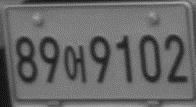0: (138, 34, 161, 81)
1: (115, 34, 133, 83)
2: (163, 34, 189, 83)
8: (14, 36, 38, 82)
9: (88, 35, 111, 83), (38, 35, 60, 83)
어: (63, 43, 86, 83)
